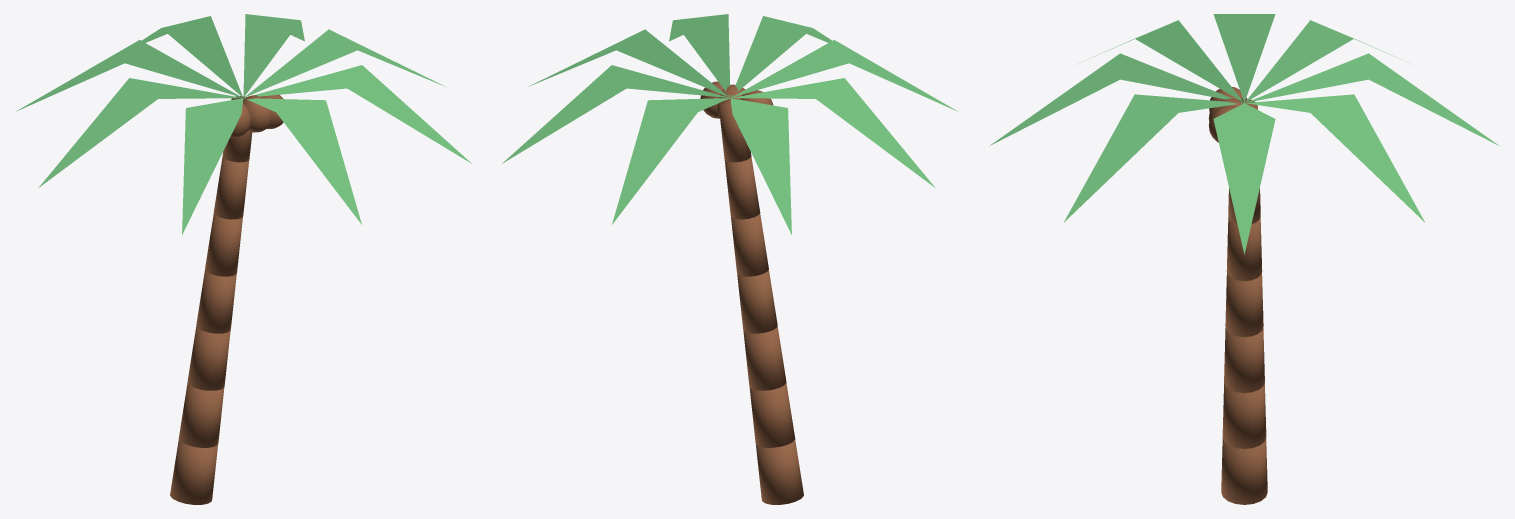
File: Palm_tree_LOD1.glb
3 renders of one model, left to right at view 1: azimuth 30°, elevation 25°; view 2: azimuth 150°, elevation 25°; view 3: azimuth 270°, elevation 25°, orthographic. The views are drawn at different scales.
Parts seen in each view (by area): view 1: Palm frond.005, Palm frond.006, Palm frond.004, Palm frond.007, Palm frond.003, Palm frond.001, Palm frond.002, Palm frond, Trunk segment, Trunk segment.001, Trunk segment.002, Trunk segment.003 (+4 smaller); view 2: Palm frond.003, Palm frond.002, Palm frond.004, Palm frond.001, Palm frond.005, Palm frond.007, Palm frond.006, Palm frond, Trunk segment, Trunk segment.001, Trunk segment.002, Trunk segment.003 (+3 smaller); view 3: Palm frond, Palm frond.001, Palm frond.007, Palm frond.002, Palm frond.006, Palm frond.004, Trunk segment, Palm frond.003, Palm frond.005, Trunk segment.001, Trunk segment.002, Trunk segment.003 (+1 smaller).
Boxes of the visible parts, x1,y1,x2,y2 form: Palm frond.005: (182, 98, 243, 234); Palm frond.006: (244, 98, 361, 224); Palm frond.004: (38, 78, 241, 187); Palm frond.007: (244, 65, 471, 163); Palm frond.003: (14, 40, 242, 112); Palm frond.001: (243, 14, 304, 97); Palm frond.002: (142, 16, 242, 97); Palm frond: (244, 29, 445, 97); Trunk segment: (170, 439, 217, 504); Trunk segment.001: (178, 383, 224, 447); Trunk segment.002: (187, 326, 230, 390); Trunk segment.003: (196, 270, 236, 333); Palm frond.003: (730, 98, 791, 234); Palm frond.002: (612, 98, 729, 224); Palm frond.004: (732, 78, 935, 187); Palm frond.001: (502, 65, 729, 163); Palm frond.005: (731, 40, 959, 112); Palm frond.007: (669, 14, 730, 97); Palm frond.006: (731, 16, 831, 97); Palm frond: (528, 29, 729, 97); Trunk segment: (756, 439, 803, 504); Trunk segment.001: (749, 383, 795, 447); Trunk segment.002: (743, 326, 786, 390); Trunk segment.003: (737, 270, 777, 333); Palm frond: (1213, 103, 1275, 254); Palm frond.001: (1245, 94, 1424, 222); Palm frond.007: (1064, 94, 1243, 222); Palm frond.002: (1245, 53, 1498, 145); Palm frond.006: (990, 53, 1243, 145); Palm frond.004: (1213, 14, 1275, 102); Trunk segment: (1221, 438, 1267, 504); Palm frond.003: (1245, 20, 1405, 102); Palm frond.005: (1083, 20, 1243, 102); Trunk segment.001: (1222, 382, 1266, 448); Trunk segment.002: (1224, 328, 1264, 392); Trunk segment.003: (1225, 273, 1263, 336).
Size of the model in its own units: 3.3 by 3.24 by 3.3.
